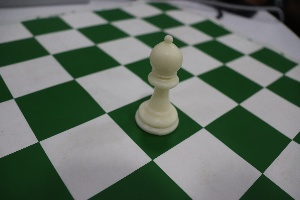white_bishop: (127, 19, 185, 143)
